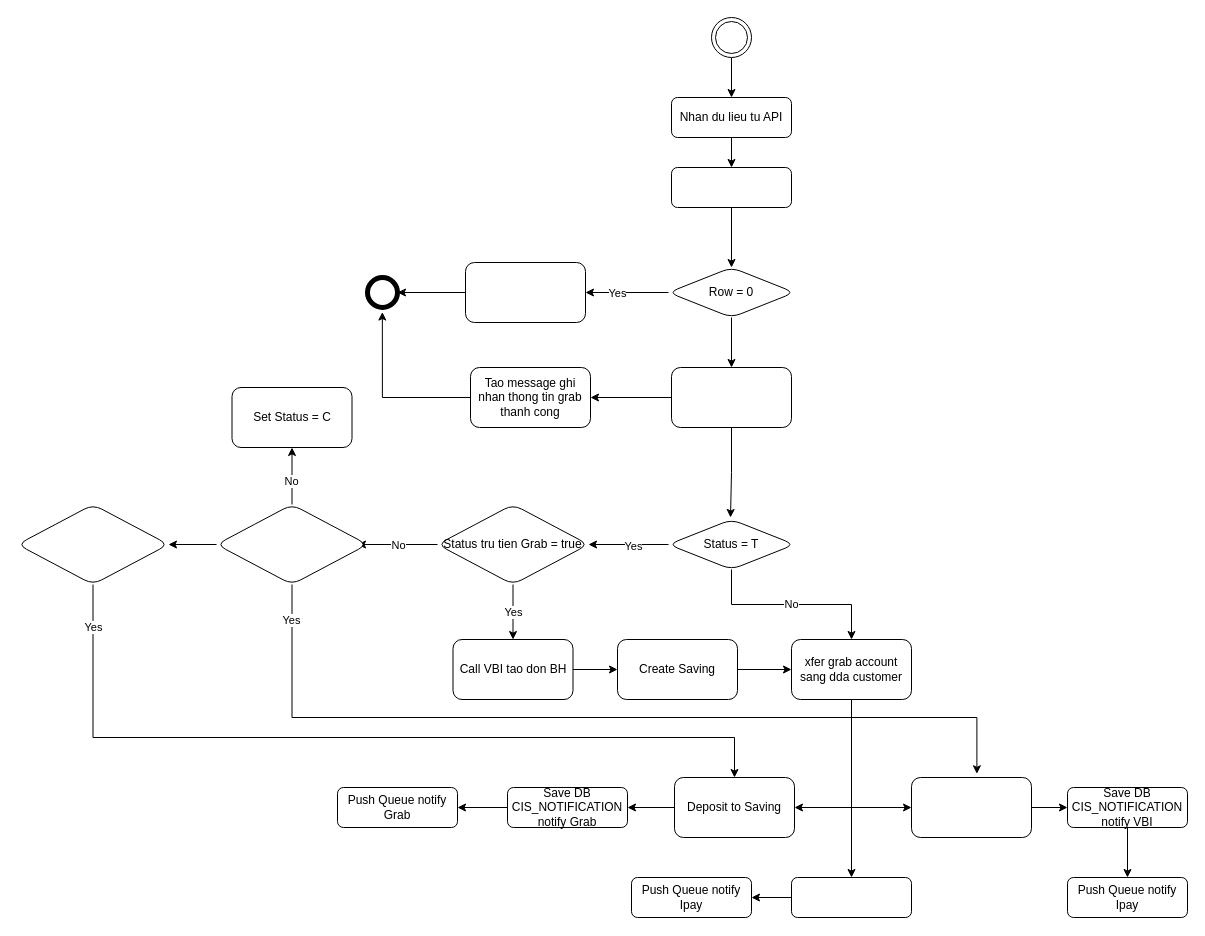
This 1205x936 diagram has some shape labels left out. The centre of each missing label's shape, as x and y in pixels:
"Check Amount DDA - Fee Ins >= Amount Sav" belongs at pixel 92 544.
"Check Amount DDA vs Fee Ins" belongs at pixel 292 544.
"Inset DB CIS_Transaction" belongs at pixel 731 397.
"Lay Combo theo Provider_customer" belongs at pixel 731 187.
"Pay Fee Ins" belongs at pixel 971 807.
"Save DB CIS_NOTIFICATION notify Ipay" belongs at pixel 851 897.
"Tao messa thong bao KH khong ton tai" belongs at pixel 525 292.
